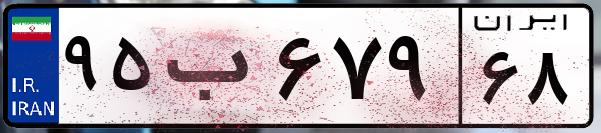5: (110, 28, 158, 98)
6: (270, 28, 330, 110), (475, 38, 525, 113)
7: (330, 28, 385, 110)
8: (525, 38, 570, 115)
9: (385, 28, 445, 110), (57, 26, 110, 100)
ب: (158, 20, 270, 120)
